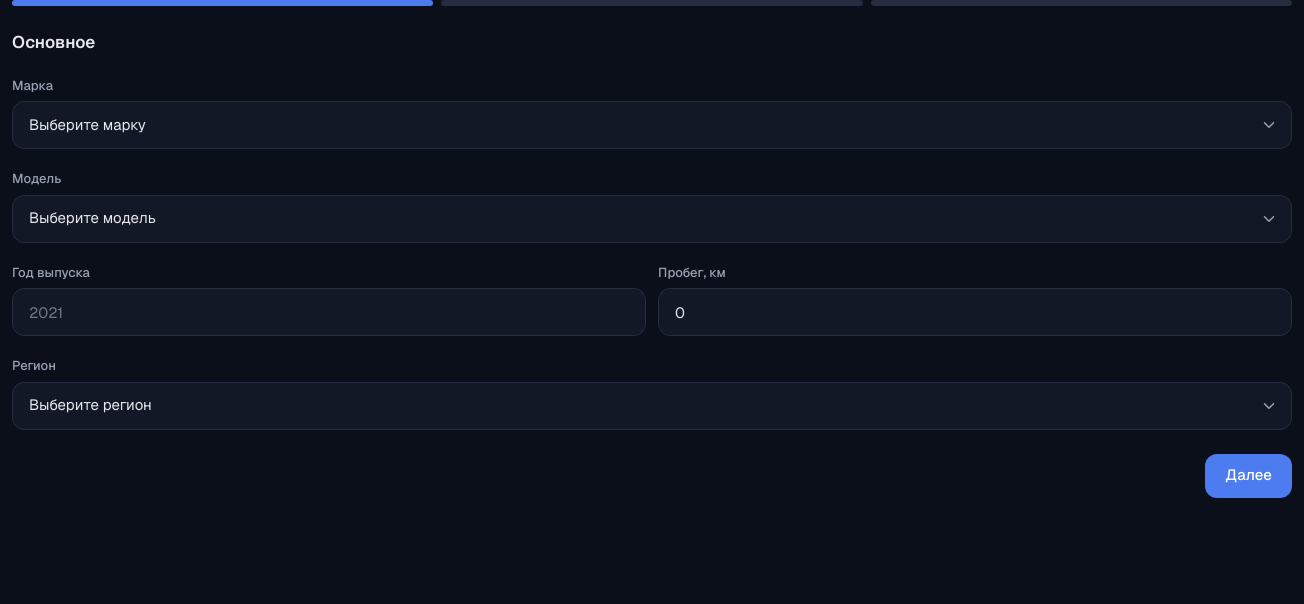
Scenario: ListingForm create — LocationSelector integration › /sell/new renders Region and City but never a District selector, even when the city has districts
Select "Toyota" in the dropdown labelled "Марка" at (652,125), box [12,101,1292,149]
Select "Camry" in the dropdown labelled "Модель" at (652,218), box [12,194,1292,242]
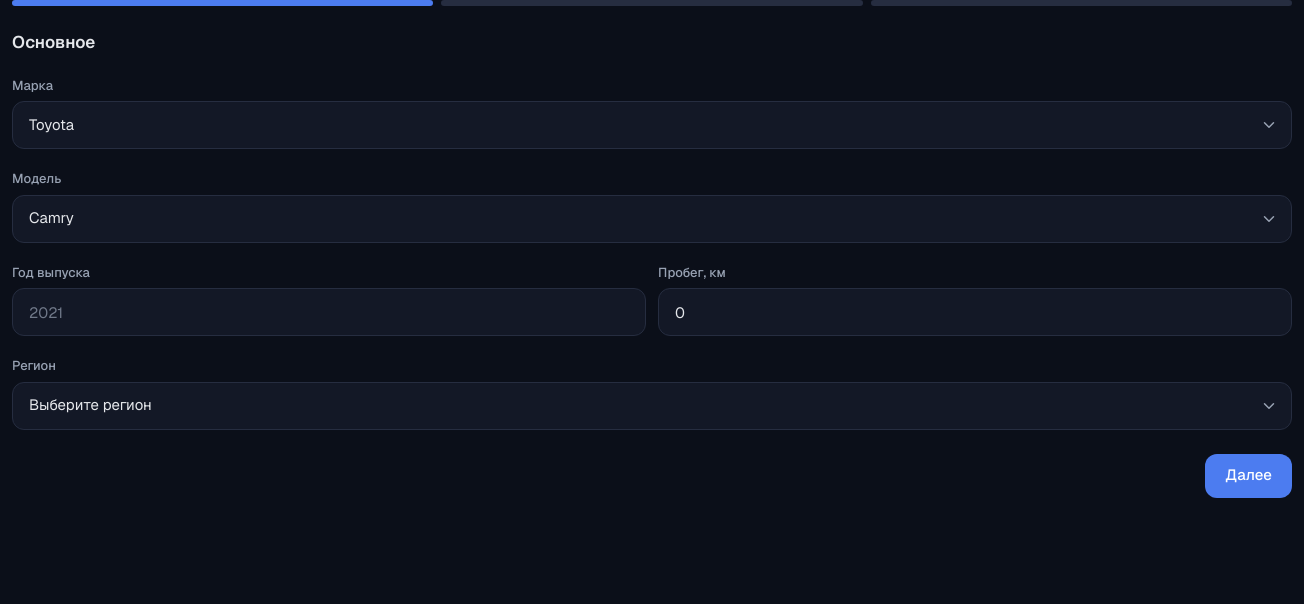
Type "2020" into the number field labelled "Год выпуска".
click(329, 312); type("2020")  # box [12,288,646,336]
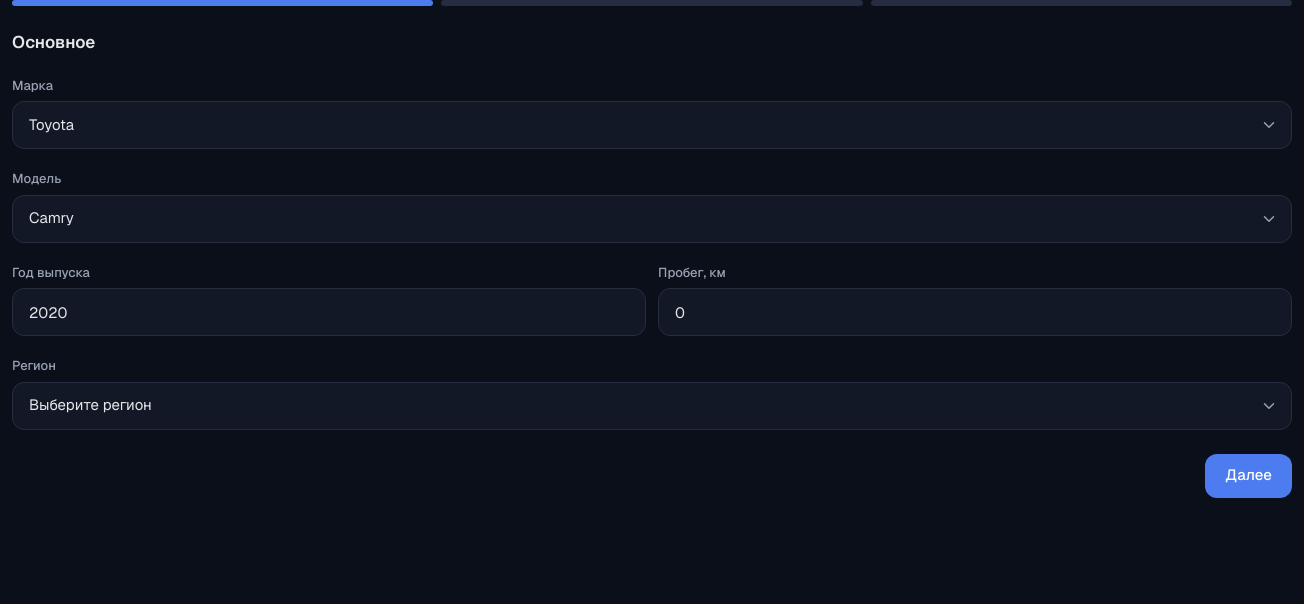
Replace the text in the number field labelled "Пробег, км" with "45000" at (975,312), box [658,288,1292,336]
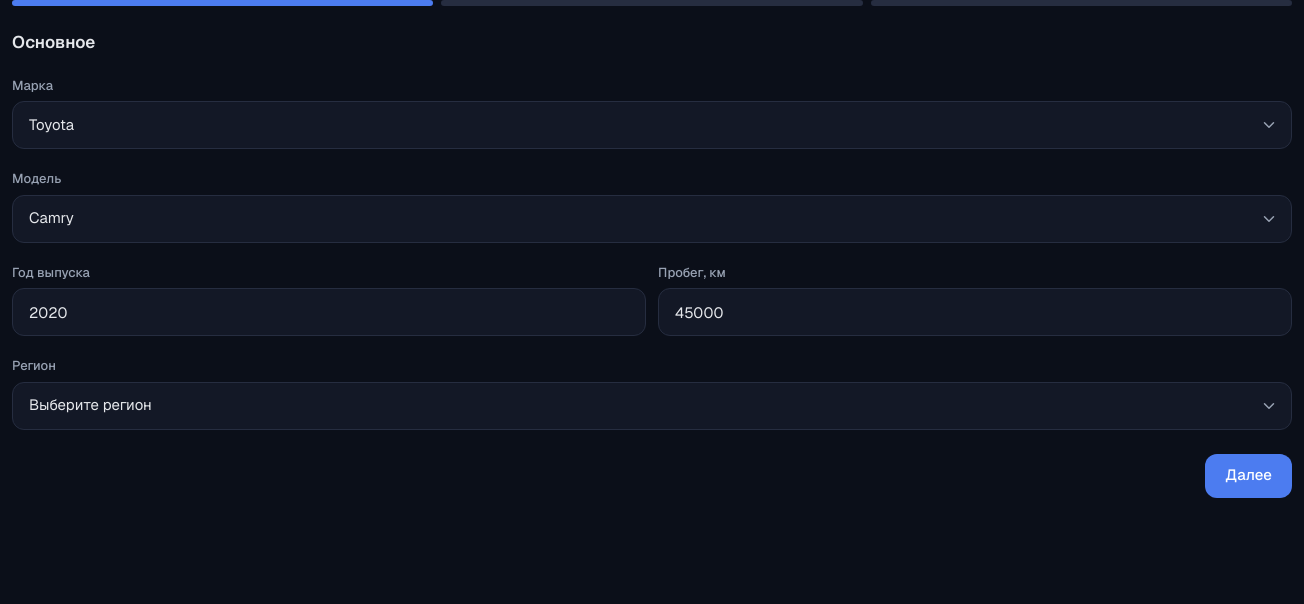
Select "Алматинская область" in the dropdown labelled "Регион" at (652,406), box [12,382,1292,430]
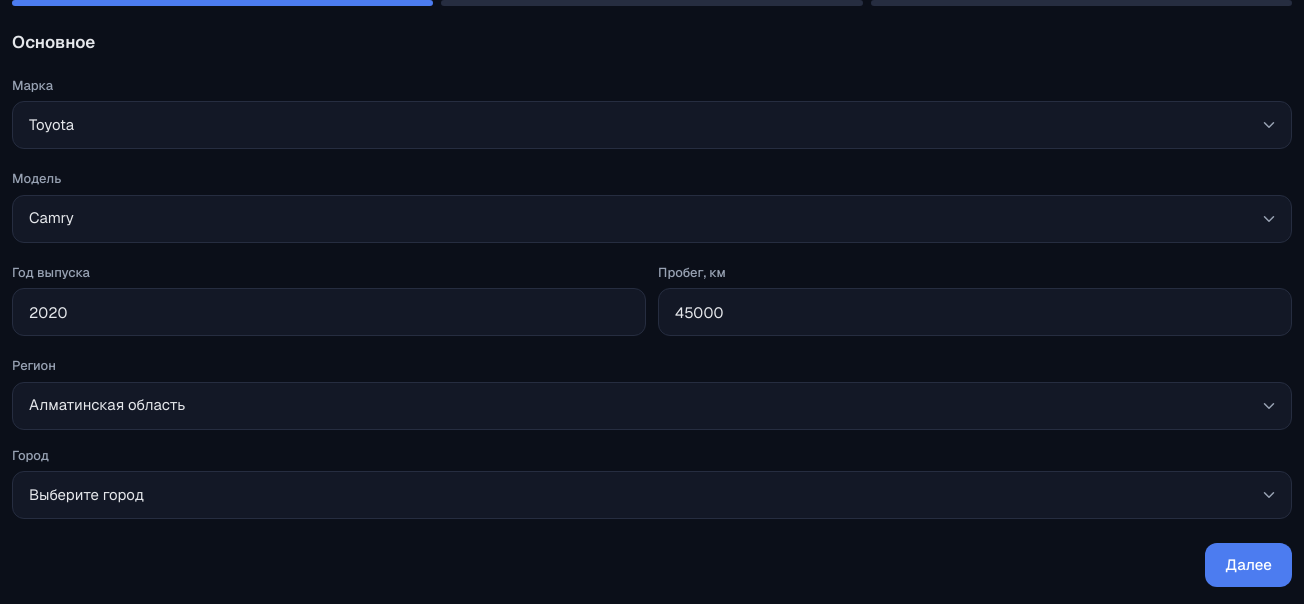
Select "Конаев" in the dropdown labelled "Город" at (652,495), box [12,471,1292,519]
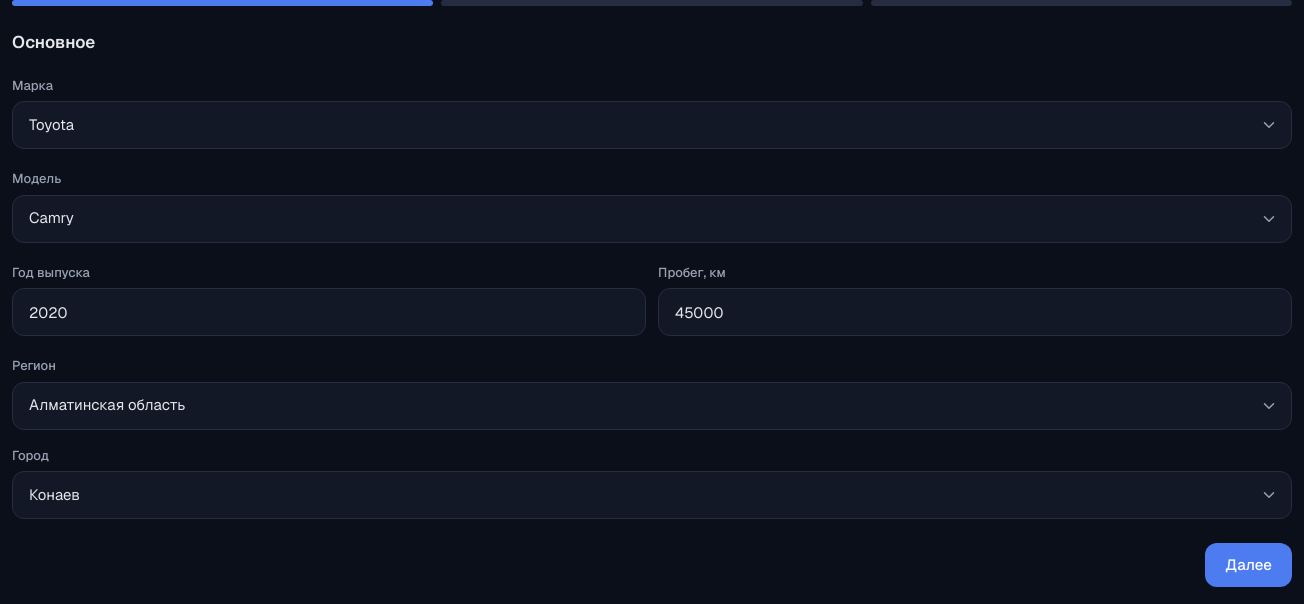
Click the button "Далее".
click(1249, 565)  # box [1205,543,1292,587]
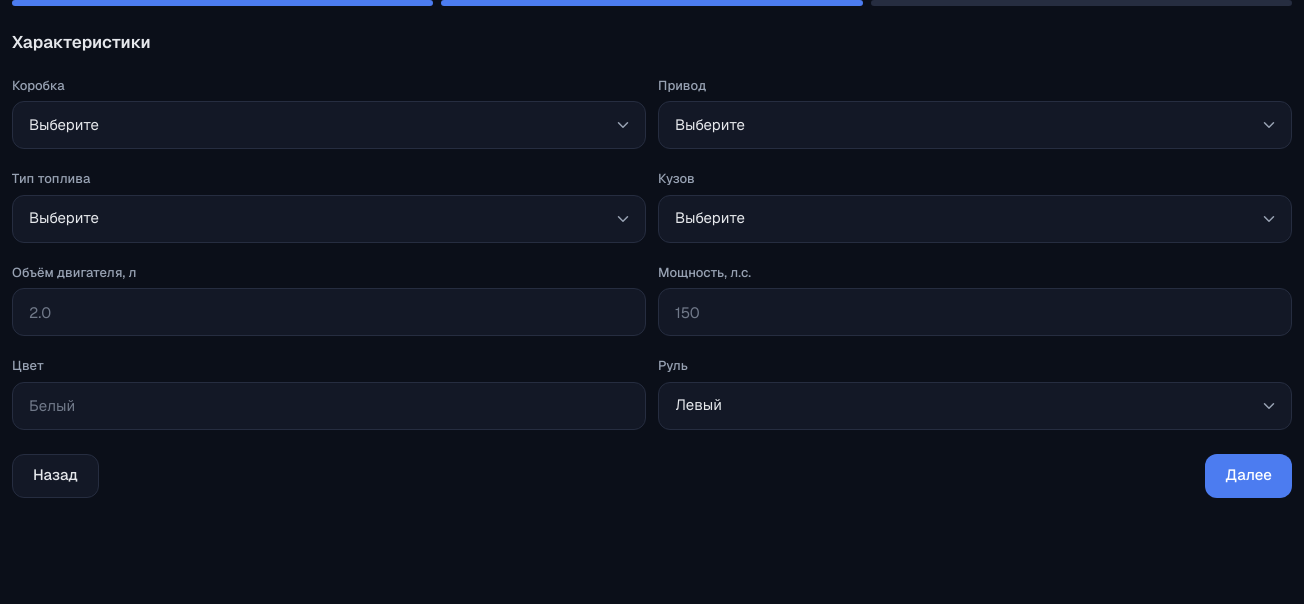
Expected: the text "Коробка" is shown, [12,76,64,94]
